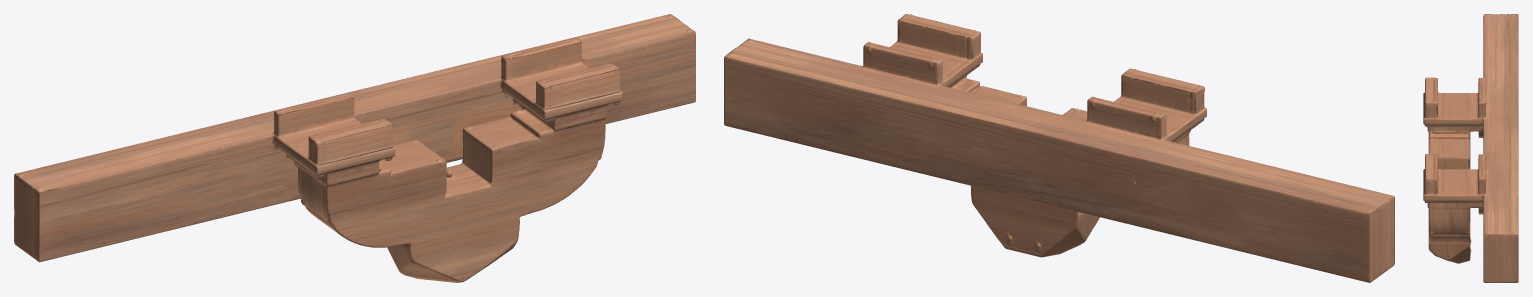
The model's file is 7罗汉枋、令栱、散斗.glb.
3 views of the same model, side by side, from view 1: azimuth 30°, elevation 25°; view 2: azimuth 150°, elevation 25°; view 3: azimuth 270°, elevation 25° (orthographic). The views are drawn at different scales.
Size of the model in its own units: 1.9 by 0.509 by 0.3469.
1 material, 1 textured.
